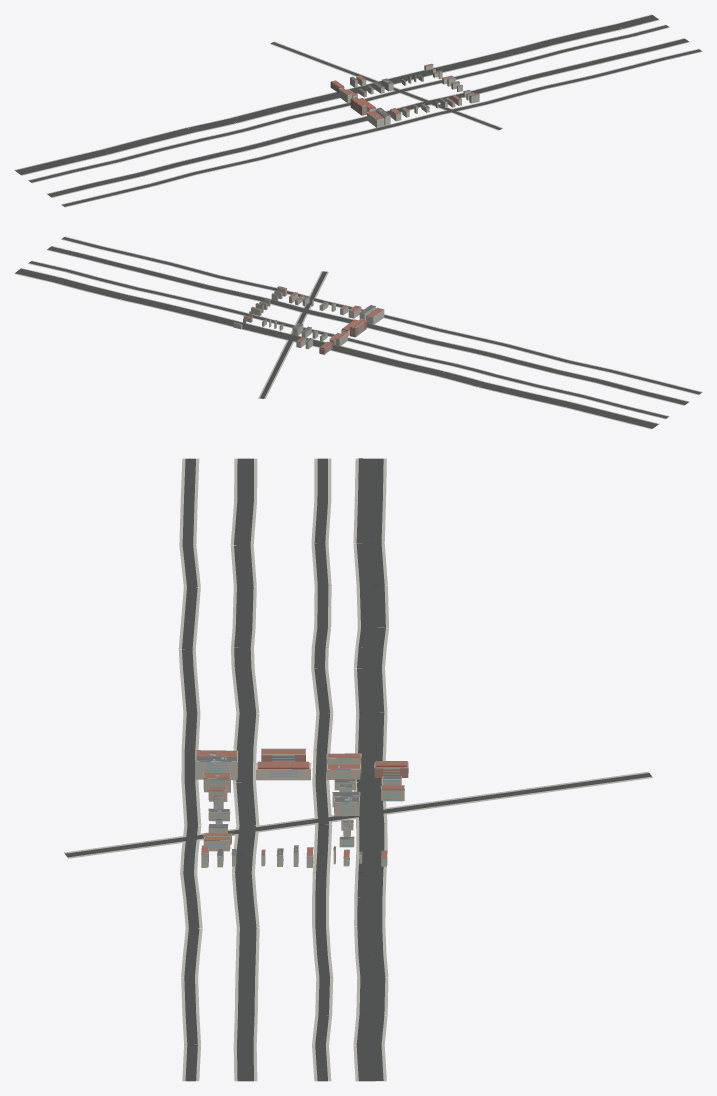
The model's file is tile-p000-p001.glb.
3 renders of one model, top to bottom at view 1: azimuth 30°, elevation 25°; view 2: azimuth 150°, elevation 25°; view 3: azimuth 270°, elevation 25°, orthographic. The views are drawn at different scales.
Visible parts, largest first — view 1: road-h-16-mesh-7, road-h-14-mesh-3, road-h-13-mesh-1, road-h-15-mesh-5, road-h-13-mesh-0, road-h-15-mesh-4, road-h-16-mesh-6, road-h-14-mesh-2, road-radial-1-1-mesh-9, road-radial-1-1-mesh-8; view 2: road-h-16-mesh-7, road-h-14-mesh-3, road-h-15-mesh-5, road-h-13-mesh-1, road-h-14-mesh-2, road-h-16-mesh-6, road-h-15-mesh-4, road-h-13-mesh-0, road-radial-1-1-mesh-9, road-radial-1-1-mesh-8; view 3: road-h-16-mesh-7, road-h-14-mesh-3, road-h-13-mesh-1, road-h-15-mesh-5, road-h-15-mesh-4, road-h-13-mesh-0, road-h-14-mesh-2, road-h-16-mesh-6, road-radial-1-1-mesh-9, road-radial-1-1-mesh-8.
Boxes of the visible parts, x1,y1,x2,y2 form: road-h-16-mesh-7: [15, 15, 658, 174]; road-h-14-mesh-3: [47, 38, 688, 197]; road-h-13-mesh-1: [62, 49, 701, 206]; road-h-15-mesh-5: [29, 25, 668, 182]; road-h-13-mesh-0: [61, 48, 702, 207]; road-h-15-mesh-4: [28, 24, 669, 183]; road-h-16-mesh-6: [14, 14, 659, 175]; road-h-14-mesh-2: [46, 38, 689, 197]; road-radial-1-1-mesh-9: [271, 42, 501, 129]; road-radial-1-1-mesh-8: [270, 41, 502, 130]; road-h-16-mesh-7: [15, 268, 658, 428]; road-h-14-mesh-3: [47, 246, 688, 404]; road-h-15-mesh-5: [29, 261, 668, 418]; road-h-13-mesh-1: [62, 237, 701, 394]; road-h-14-mesh-2: [46, 246, 689, 405]; road-h-16-mesh-6: [14, 268, 659, 429]; road-h-15-mesh-4: [28, 260, 669, 419]; road-h-13-mesh-0: [61, 236, 702, 394]; road-radial-1-1-mesh-9: [260, 271, 326, 398]; road-radial-1-1-mesh-8: [258, 271, 328, 398]; road-h-16-mesh-7: [356, 458, 385, 1081]; road-h-14-mesh-3: [234, 458, 256, 1081]; road-h-13-mesh-1: [182, 458, 199, 1081]; road-h-15-mesh-5: [314, 458, 329, 1081]; road-h-15-mesh-4: [311, 458, 333, 1081]; road-h-13-mesh-0: [178, 458, 202, 1081]; road-h-14-mesh-2: [230, 458, 259, 1081]; road-h-16-mesh-6: [353, 458, 388, 1081]; road-radial-1-1-mesh-9: [65, 773, 651, 857]; road-radial-1-1-mesh-8: [64, 771, 652, 858].
Bounding box in the file's own units: 1600 × 23.5 × 640.
